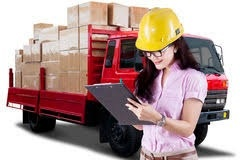helmet: (136, 9, 186, 52)
person with partial safety: (130, 9, 203, 159)
